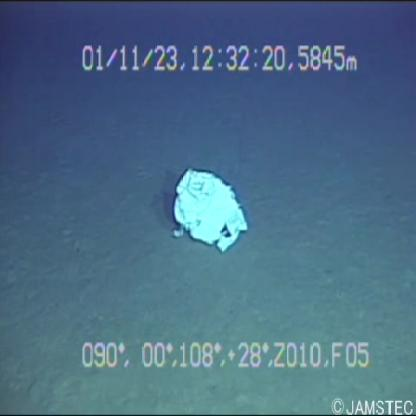Rác: (156, 162, 265, 267)
